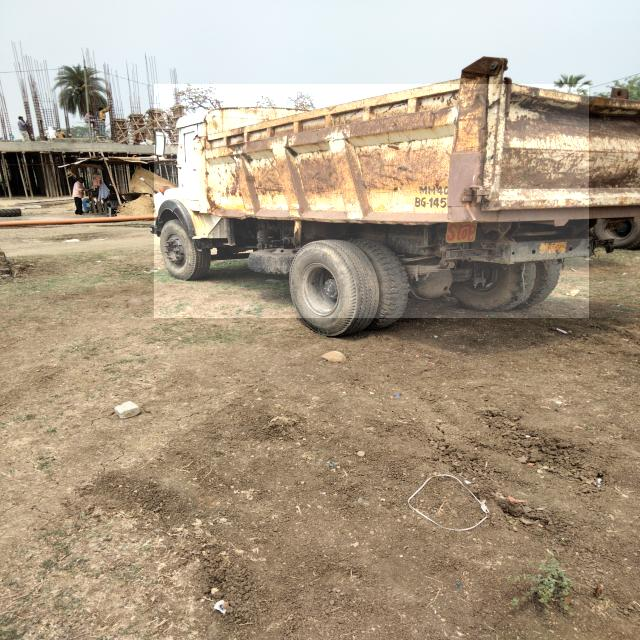Truck: (154, 84, 589, 318)
